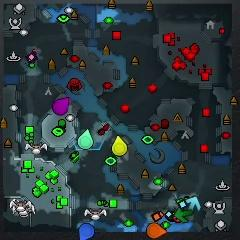p1: (79, 222, 94, 240)
p2: (77, 129, 93, 149)
p3: (52, 96, 70, 116)
p4: (112, 135, 128, 155)
p5: (147, 223, 167, 240)
x3: (185, 196, 201, 211)
x4: (175, 207, 193, 222)
